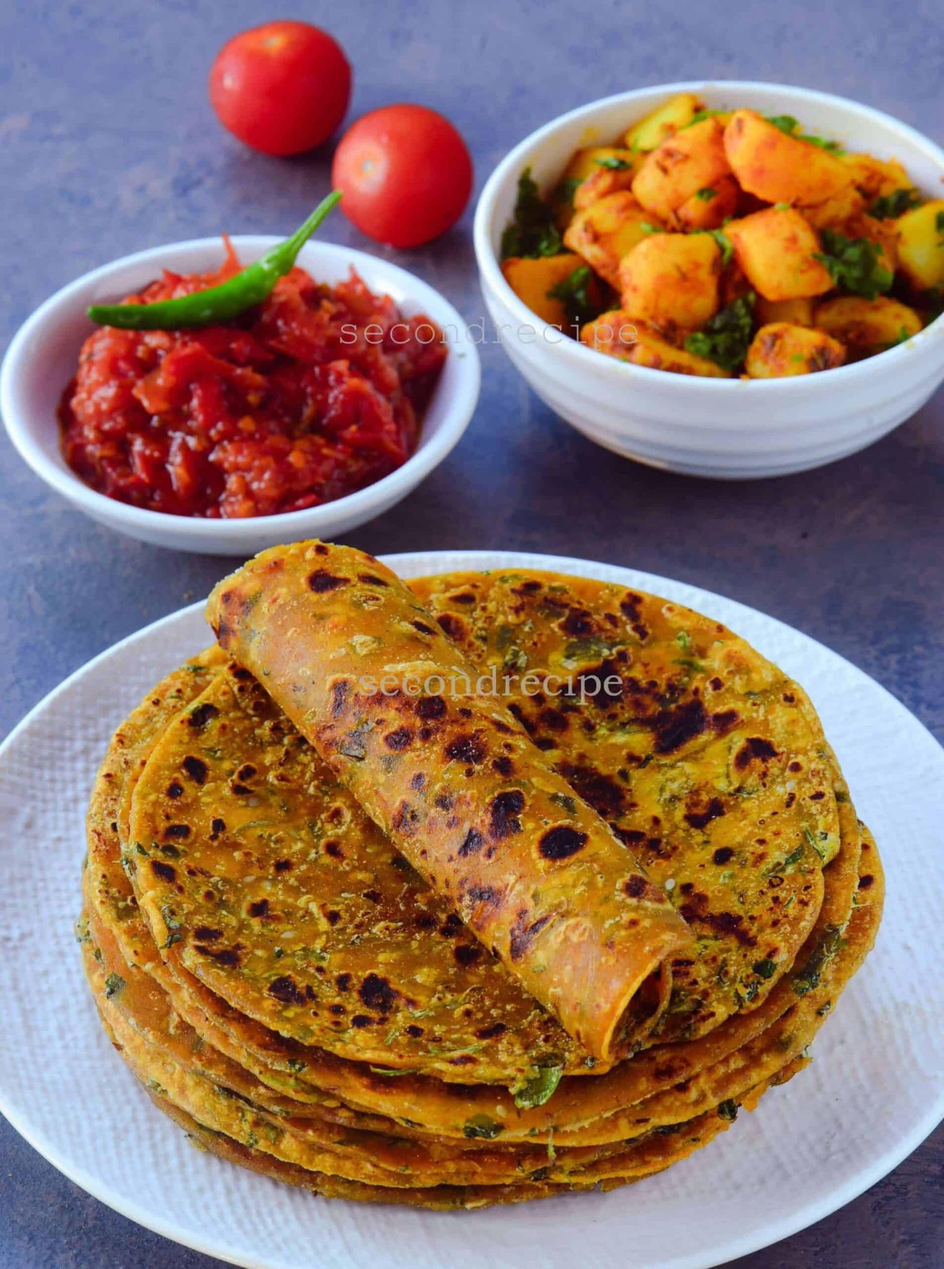aloo sabji: (502, 116, 916, 414)
thepla: (200, 577, 807, 1124)
